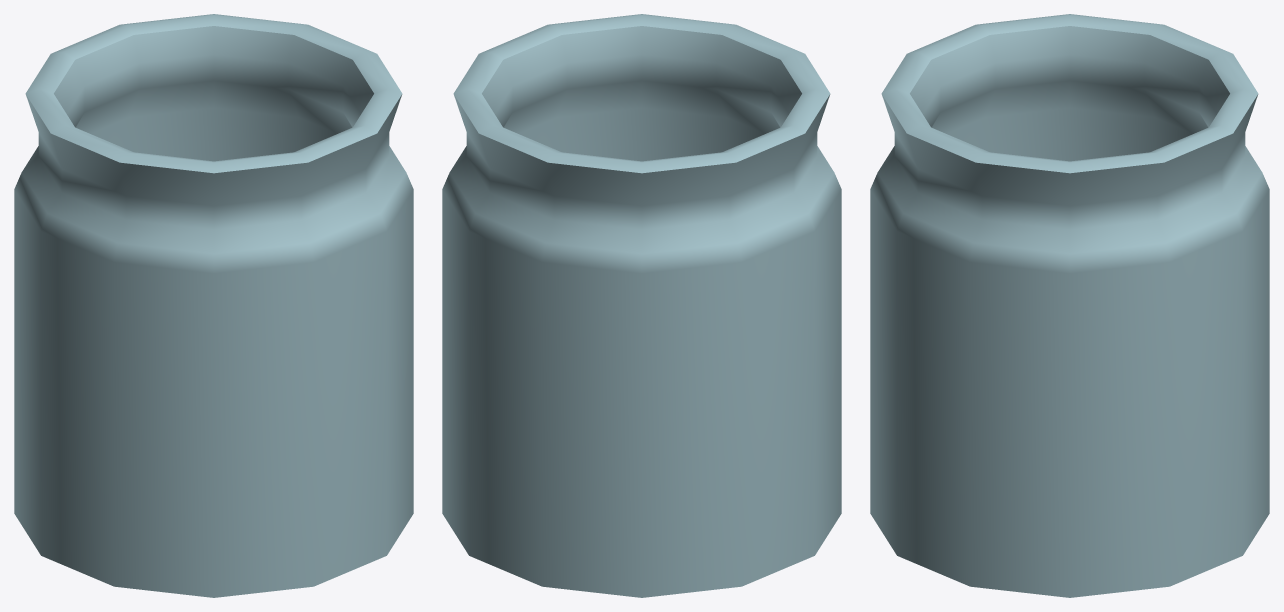
The model's file is BrainJar 1.fbx.
The picture shows the model from 3 angles, left to right: view 1: azimuth 30°, elevation 25°; view 2: azimuth 150°, elevation 25°; view 3: azimuth 270°, elevation 25°; orthographic projection.
Parts seen in each view (by area): view 1: pCylinder24; view 2: pCylinder24; view 3: pCylinder24.
Part boxes in pixels (bbox=[...]): pCylinder24: bbox=[14, 14, 413, 597]; pCylinder24: bbox=[442, 14, 841, 597]; pCylinder24: bbox=[870, 14, 1269, 597].
Bounding box in the file's own units: 2.35 × 2.76 × 2.35.
